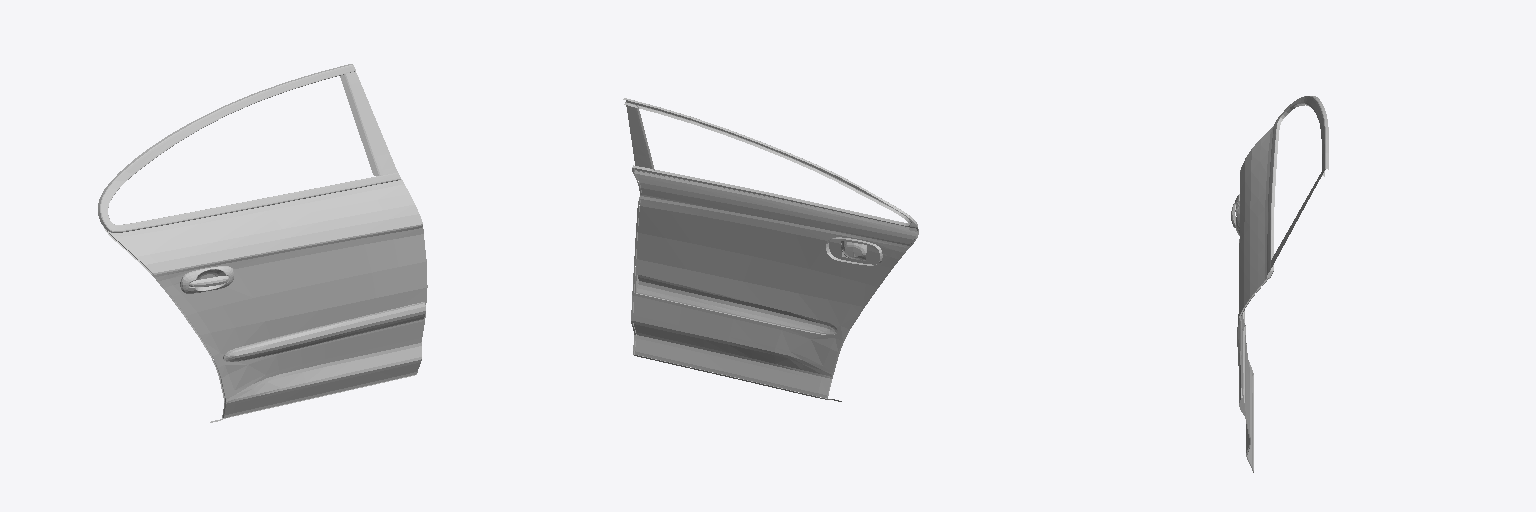
The picture shows the model from 3 angles: view 1: azimuth 30°, elevation 25°; view 2: azimuth 150°, elevation 25°; view 3: azimuth 270°, elevation 25°; orthographic projection.
Parts seen in each view (by area): view 1: _6139_18_301B_R__6139_18_301B_R_1_DaS, _6139_18_301B_R__6139_18_301B_R_3_DaS, _6139_18_301B_R__6139_18_301B_R_5_D, _6139_18_301B_R__6139_18_301B_R_4_D, _6139_18_301B_R_2_D__6139_18_301B_R, _6139_18_301B_R__6139_18_301B_R_1_DaS_E, _6139_18_301B_R__6139_18_301B_R_6_D; view 2: _6139_18_301B_R__6139_18_301B_R_1_DaS, _6139_18_301B_R__6139_18_301B_R_3_DaS, _6139_18_301B_R__6139_18_301B_R_5_D, _6139_18_301B_R__6139_18_301B_R_1_DaS_E, _6139_18_301B_R__6139_18_301B_R_4_D, _6139_18_301B_R__6139_18_301B_R_6_D, _6139_18_301B_R_2_D__6139_18_301B_R; view 3: _6139_18_301B_R__6139_18_301B_R_1_DaS, _6139_18_301B_R__6139_18_301B_R_3_DaS.
Boxes of the visible parts, x1=… form: _6139_18_301B_R__6139_18_301B_R_1_DaS: x1=108, y1=180, x2=426, y2=417; _6139_18_301B_R__6139_18_301B_R_3_DaS: x1=98, y1=64, x2=400, y2=232; _6139_18_301B_R__6139_18_301B_R_5_D: x1=223, y1=302, x2=425, y2=361; _6139_18_301B_R__6139_18_301B_R_4_D: x1=340, y1=71, x2=397, y2=175; _6139_18_301B_R_2_D__6139_18_301B_R: x1=180, y1=266, x2=233, y2=293; _6139_18_301B_R__6139_18_301B_R_1_DaS_E: x1=107, y1=224, x2=421, y2=417; _6139_18_301B_R__6139_18_301B_R_6_D: x1=103, y1=179, x2=427, y2=422; _6139_18_301B_R__6139_18_301B_R_1_DaS: x1=633, y1=171, x2=917, y2=397; _6139_18_301B_R__6139_18_301B_R_3_DaS: x1=623, y1=98, x2=917, y2=231; _6139_18_301B_R__6139_18_301B_R_5_D: x1=636, y1=275, x2=837, y2=334; _6139_18_301B_R__6139_18_301B_R_1_DaS_E: x1=633, y1=171, x2=914, y2=398; _6139_18_301B_R__6139_18_301B_R_4_D: x1=626, y1=102, x2=654, y2=170; _6139_18_301B_R__6139_18_301B_R_6_D: x1=631, y1=165, x2=918, y2=401; _6139_18_301B_R_2_D__6139_18_301B_R: x1=826, y1=237, x2=882, y2=265; _6139_18_301B_R__6139_18_301B_R_1_DaS: x1=1239, y1=126, x2=1273, y2=467; _6139_18_301B_R__6139_18_301B_R_3_DaS: x1=1267, y1=96, x2=1328, y2=278.
Size of the model in its own units: 112 by 102 by 31.27.